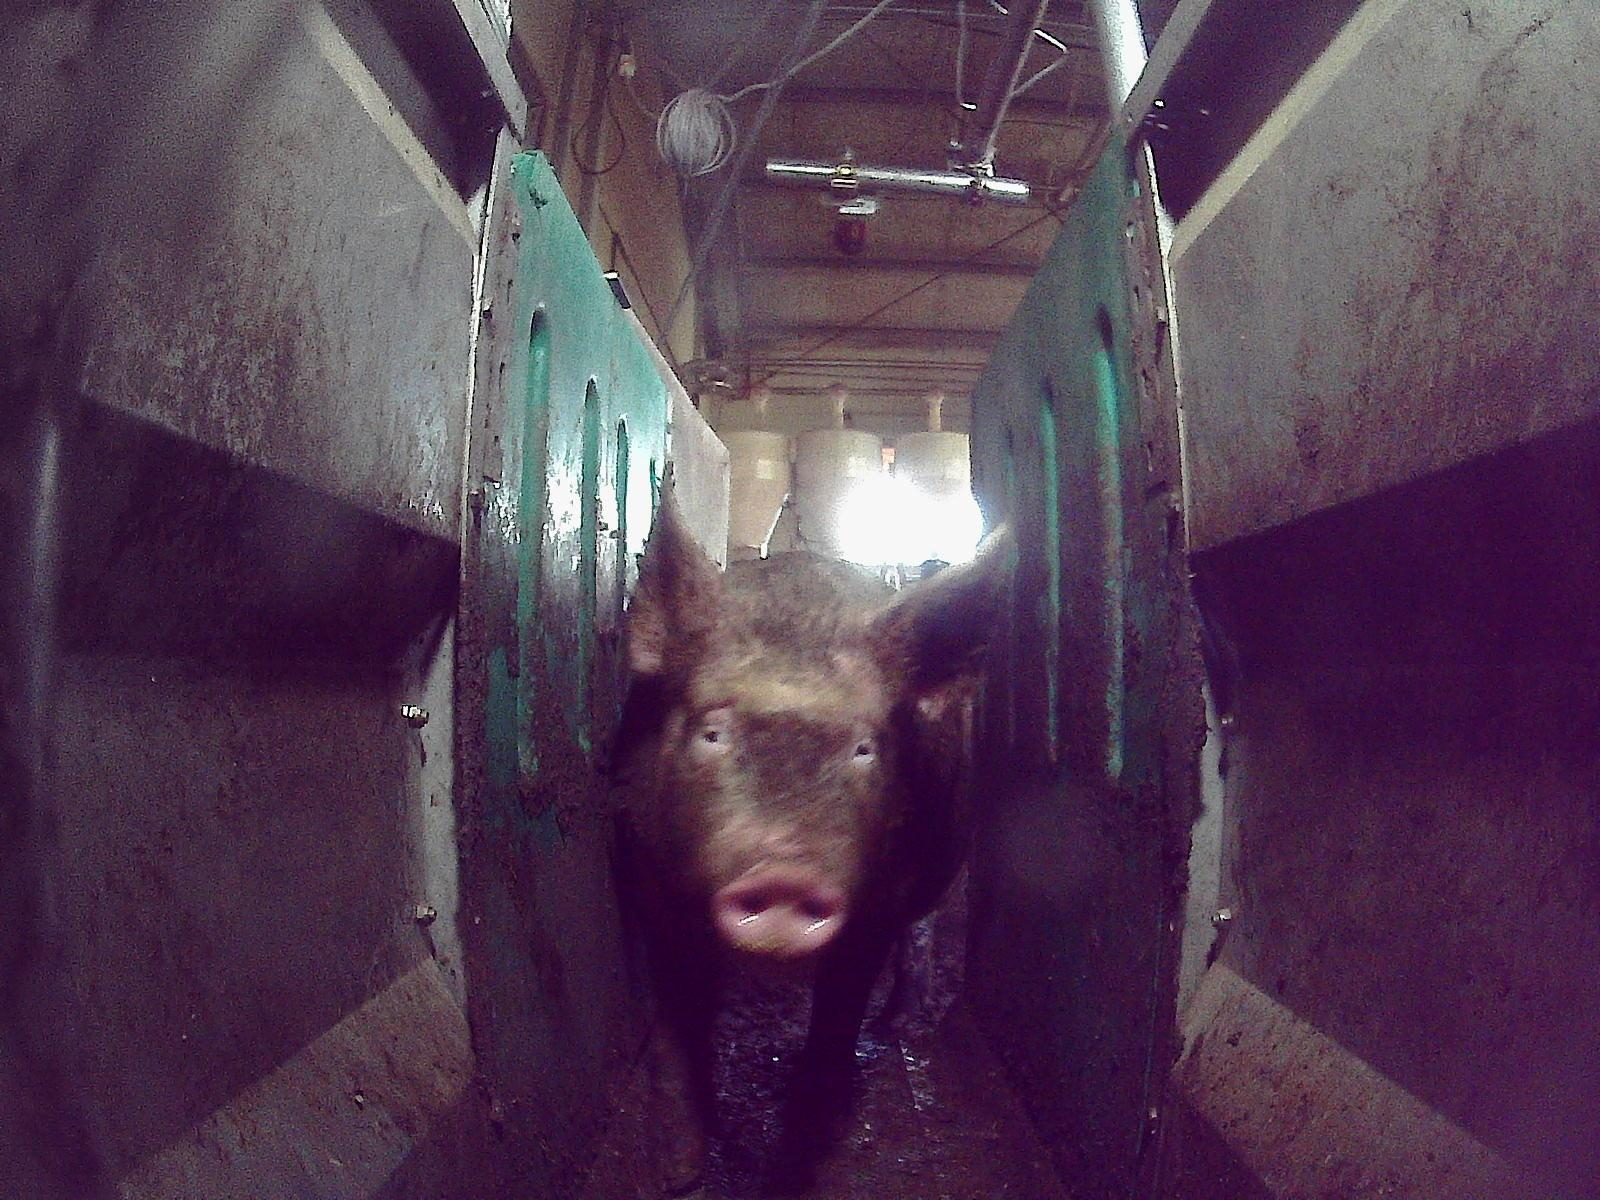Face: (662, 587, 891, 960)
